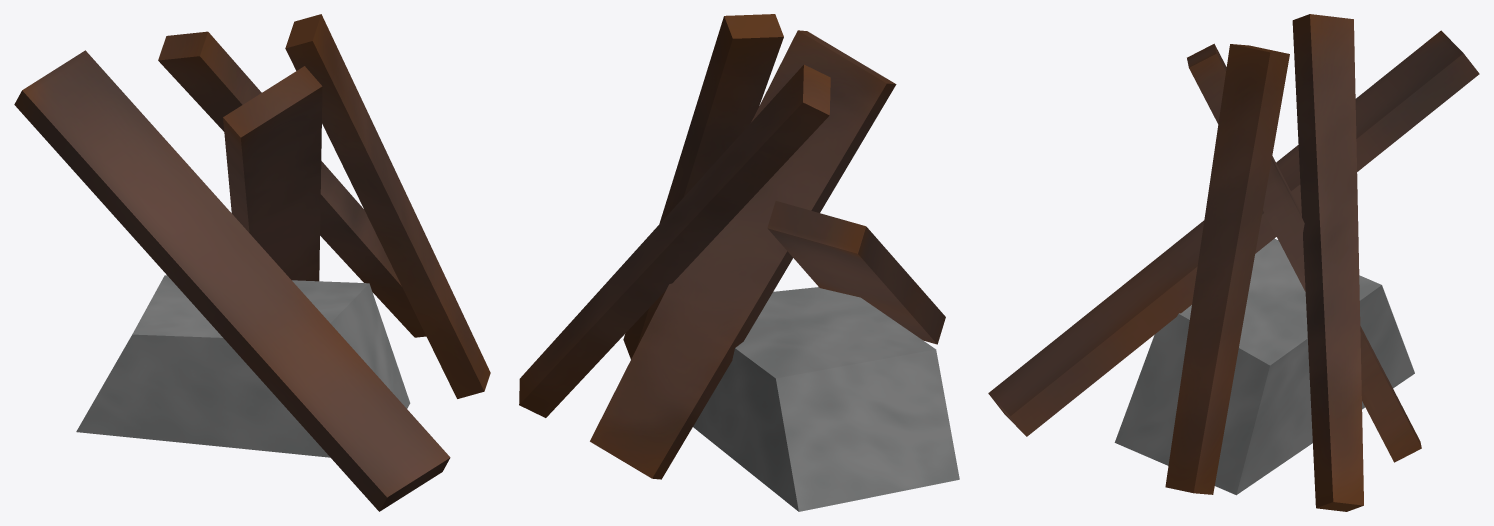
File: MadeiraComDestroços2.fbx
3 views of the same model, side by side, from view 1: azimuth 30°, elevation 25°; view 2: azimuth 150°, elevation 25°; view 3: azimuth 270°, elevation 25° (orthographic). The views are drawn at different scales.
Visible parts, largest first — view 1: pCube17; view 2: pCube17; view 3: pCube17.
Part boxes in pixels (left/top/right/bottom): pCube17: left=14, top=14, right=490, bottom=511; pCube17: left=519, top=14, right=959, bottom=511; pCube17: left=988, top=14, right=1479, bottom=511.
Bounding box in the file's own units: 237 × 226 × 248.
